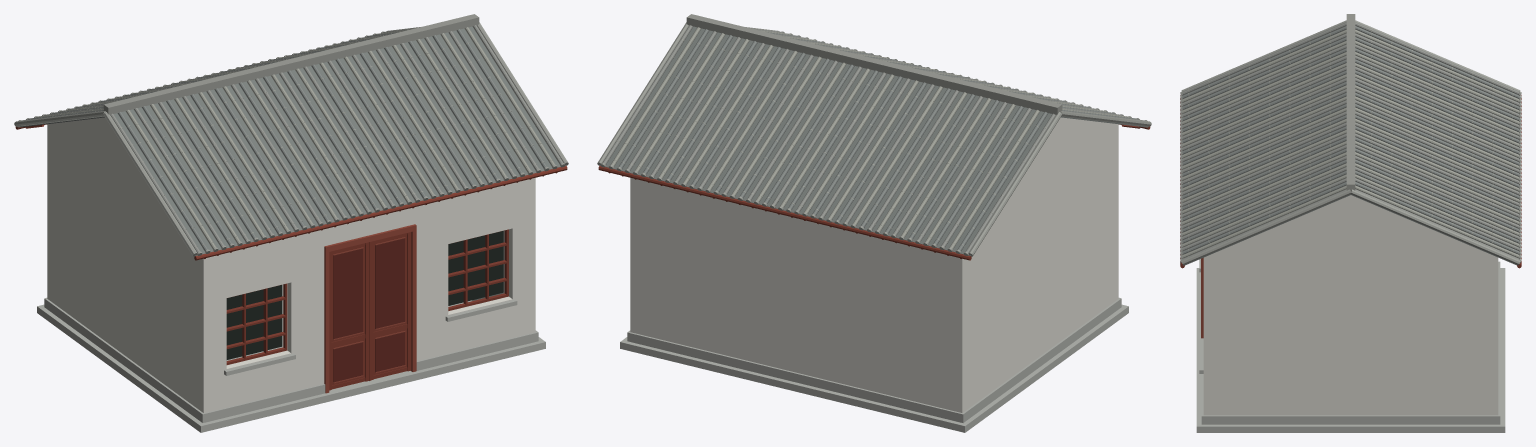
Rendered from chongming-ruxue-gate-web.glb.
3 renders of one model, left to right at view 1: azimuth 30°, elevation 25°; view 2: azimuth 150°, elevation 25°; view 3: azimuth 270°, elevation 25°, orthographic. The views are drawn at different scales.
Size of the model in its own units: 11.65 by 8 by 9.74.
